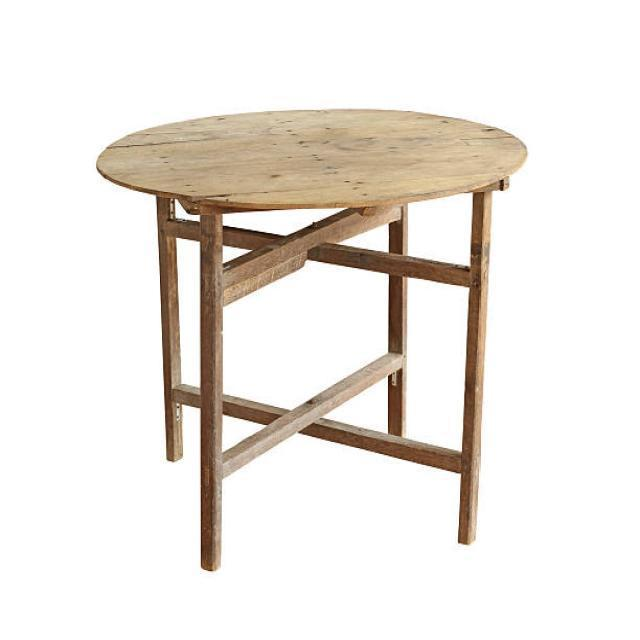table: (95, 106, 528, 571)
